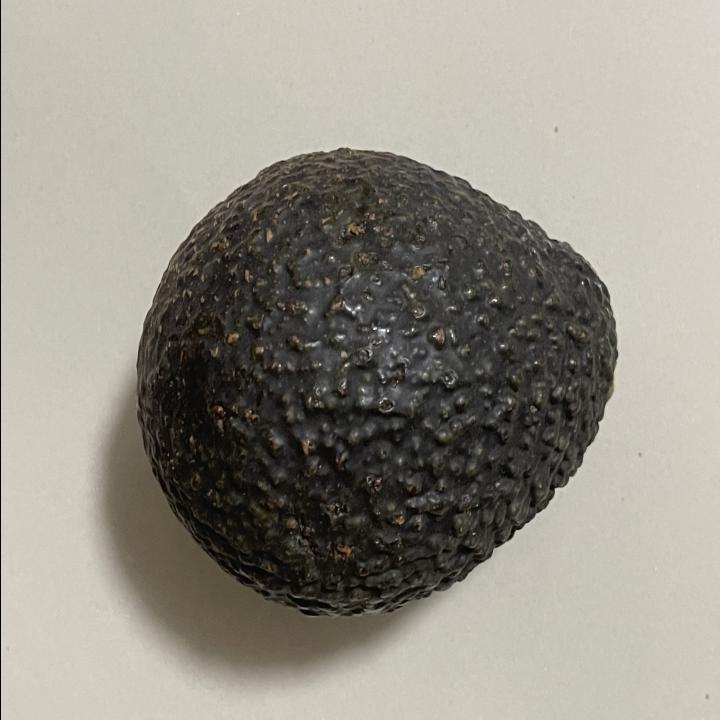Level1: (124, 129, 635, 639)
